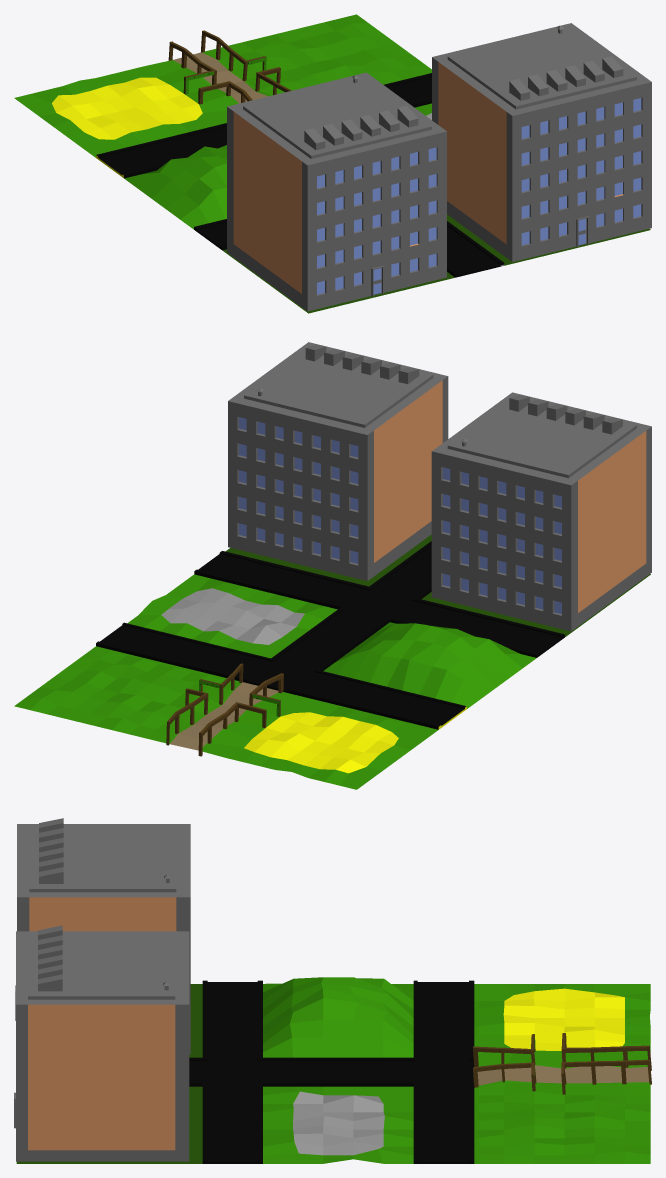
The model's file is TERRAIN.fbx.
3 views of the same model, one above another, from view 1: azimuth 30°, elevation 25°; view 2: azimuth 150°, elevation 25°; view 3: azimuth 270°, elevation 25° (orthographic). The views are drawn at different scales.
Visible parts, largest first — view 1: Cube, Cube.001, Plane; view 2: Plane, Cube, Cube.001; view 3: Plane, Cube.001, Cube.
Part boxes in pixels (x1,y1,x2,y2): Cube: [227, 72, 446, 311]; Cube.001: [432, 23, 651, 261]; Plane: [14, 14, 650, 313]; Plane: [14, 534, 650, 789]; Cube: [431, 392, 651, 631]; Cube.001: [228, 342, 448, 580]; Plane: [16, 977, 651, 1163]; Cube.001: [14, 925, 189, 1161]; Cube: [15, 818, 190, 1054].
Size of the model in its own units: 201 by 300 by 100.
